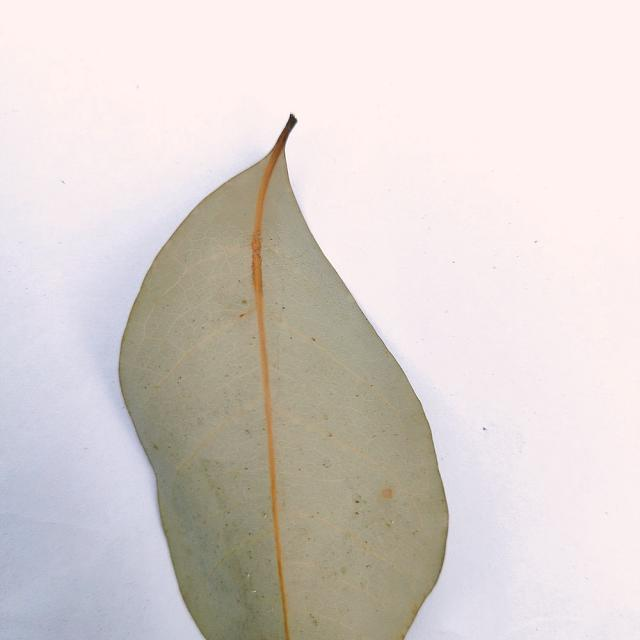Dry_Leaf-Lychee: (116, 117, 450, 639)
